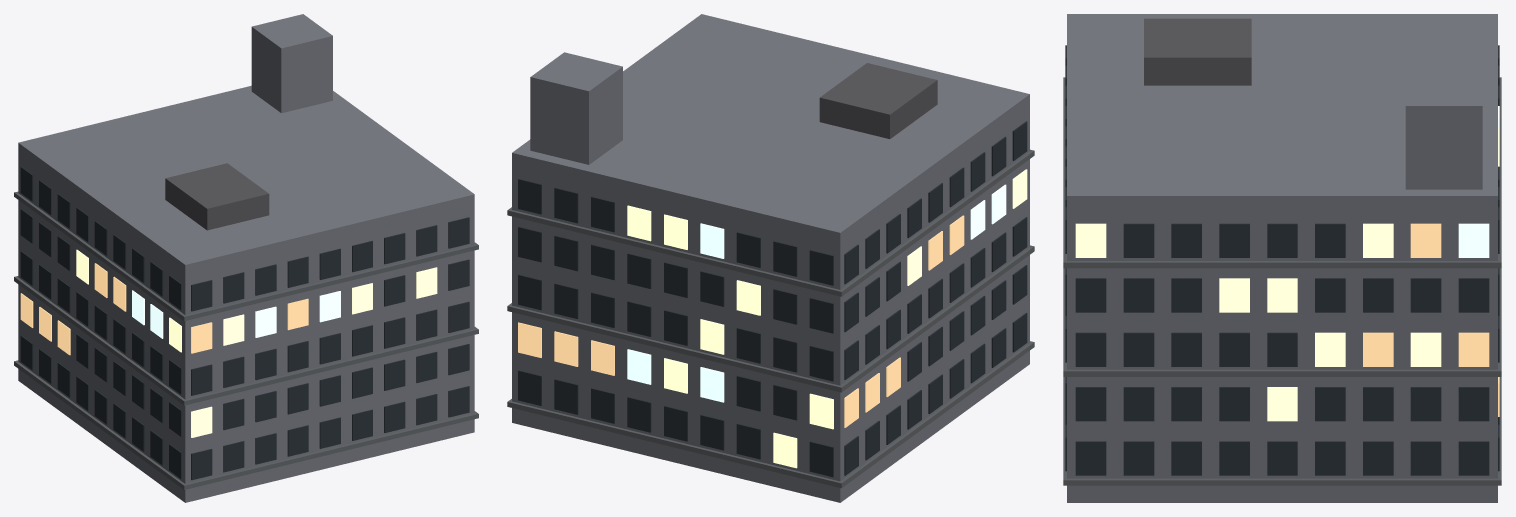
Rendered from block2.glb.
The picture shows the model from 3 angles, left to right: view 1: azimuth 30°, elevation 25°; view 2: azimuth 150°, elevation 25°; view 3: azimuth 270°, elevation 25°; orthographic projection. The views are drawn at different scales.
Parts seen in each view (by area): view 1: Block2; view 2: Block2; view 3: Block2.
Boxes of the visible parts, bbox=[...] form: Block2: bbox=[14, 14, 478, 502]; Block2: bbox=[507, 14, 1034, 502]; Block2: bbox=[1063, 14, 1501, 502].
Size of the model in its own units: 28.5 by 28 by 28.5.
